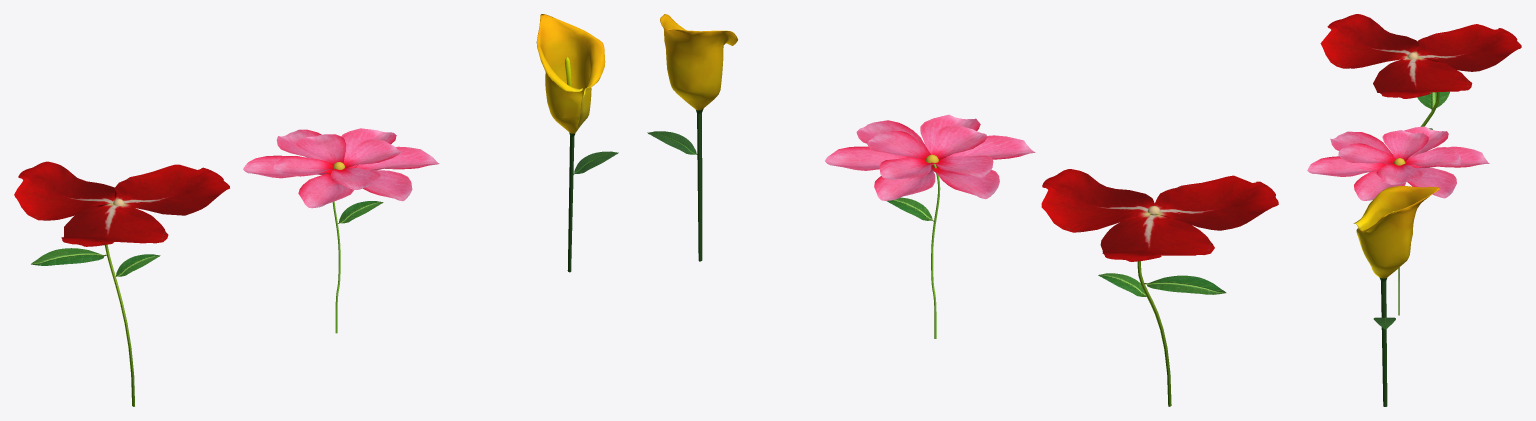
Rendered from Flores.fbx.
3 views of the same model, side by side, from view 1: azimuth 30°, elevation 25°; view 2: azimuth 150°, elevation 25°; view 3: azimuth 270°, elevation 25° (orthographic). The views are drawn at different scales.
Visible parts, largest first — view 1: Red Flower, Pink Flower, Yellow Flower; view 2: Red Flower, Pink Flower, Yellow Flower; view 3: Red Flower, Pink Flower, Yellow Flower.
Boxes of the visible parts, x1=… form: Red Flower: x1=14, y1=161, x2=229, y2=406; Pink Flower: x1=243, y1=128, x2=439, y2=333; Yellow Flower: x1=536, y1=14, x2=618, y2=272; Red Flower: x1=1041, y1=169, x2=1278, y2=406; Pink Flower: x1=825, y1=114, x2=1035, y2=338; Yellow Flower: x1=647, y1=14, x2=737, y2=261; Red Flower: x1=1320, y1=14, x2=1521, y2=129; Pink Flower: x1=1307, y1=126, x2=1489, y2=315; Yellow Flower: x1=1353, y1=186, x2=1440, y2=406.
Size of the model in its own units: 172 by 75.84 by 60.03.
